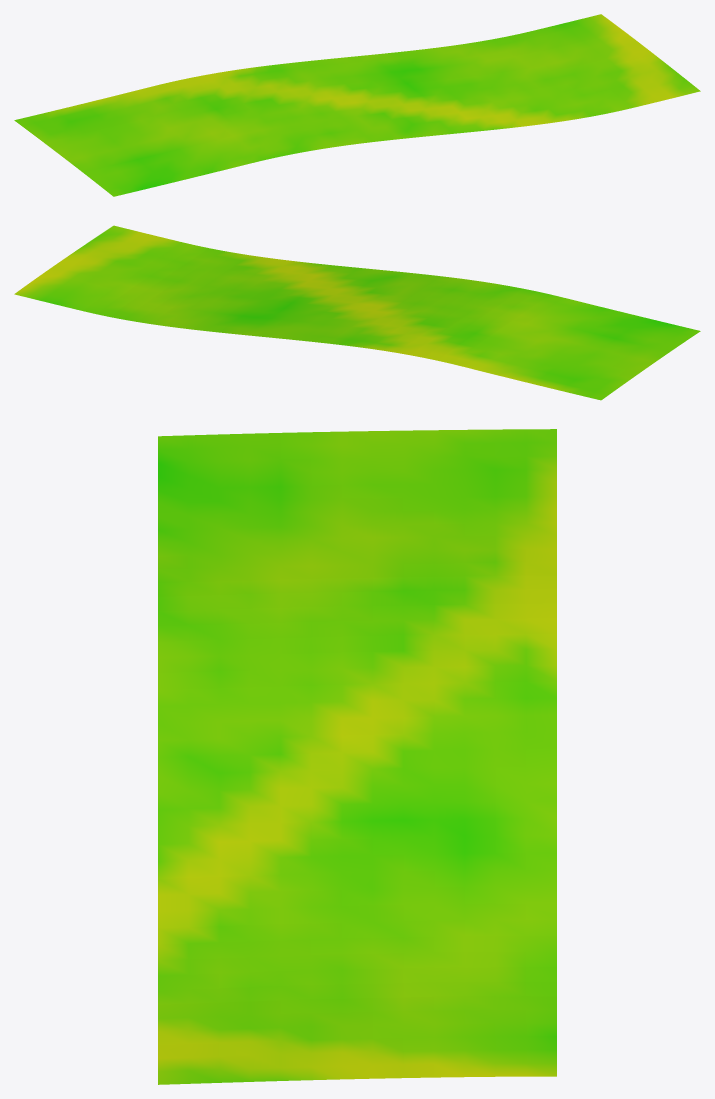
File: terrain_0_4.glb
The picture shows the model from 3 angles, top to bottom: view 1: azimuth 30°, elevation 25°; view 2: azimuth 150°, elevation 25°; view 3: azimuth 270°, elevation 25°; orthographic projection. The views are drawn at different scales.
Parts seen in each view (by area): view 1: terrain_0_4; view 2: terrain_0_4; view 3: terrain_0_4.
Boxes of the visible parts, x1,y1,x2,y2 form: terrain_0_4: (14,14,700,196); terrain_0_4: (14,225,700,400); terrain_0_4: (158,429,556,1084).
Bounding box in the file's own units: 85 × 5.73 × 25.
